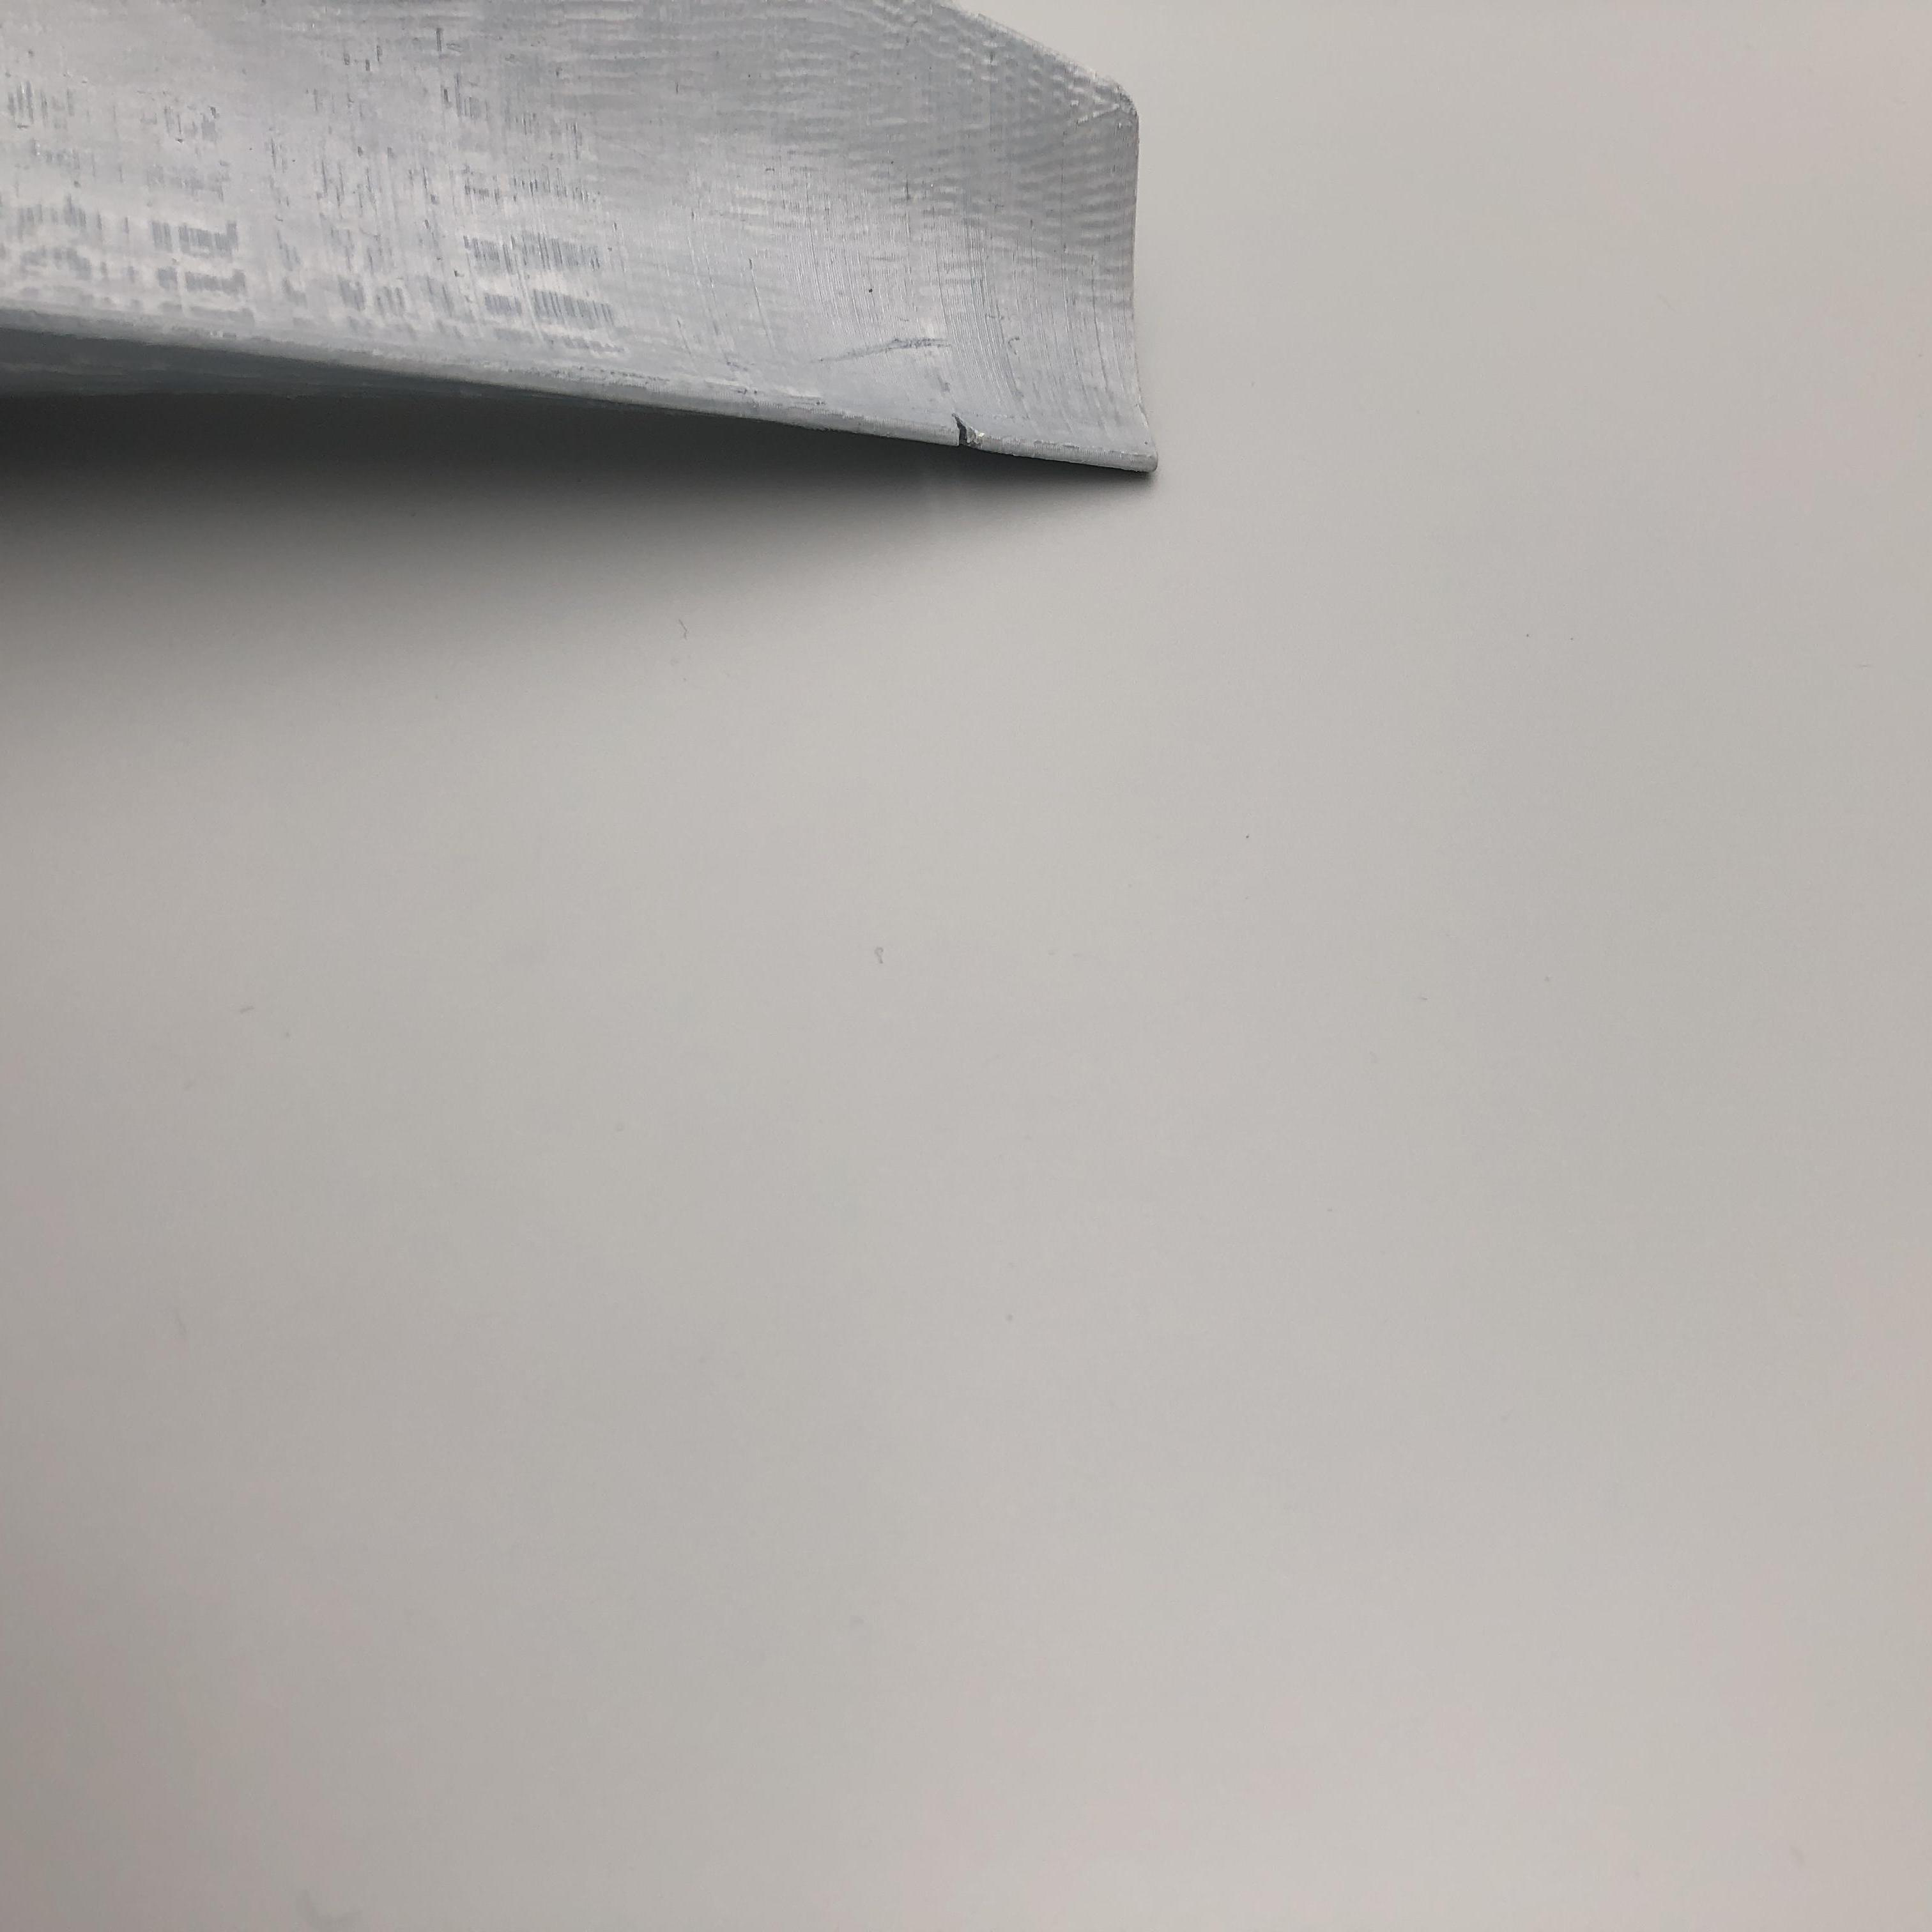groove: (943, 407, 996, 449)
